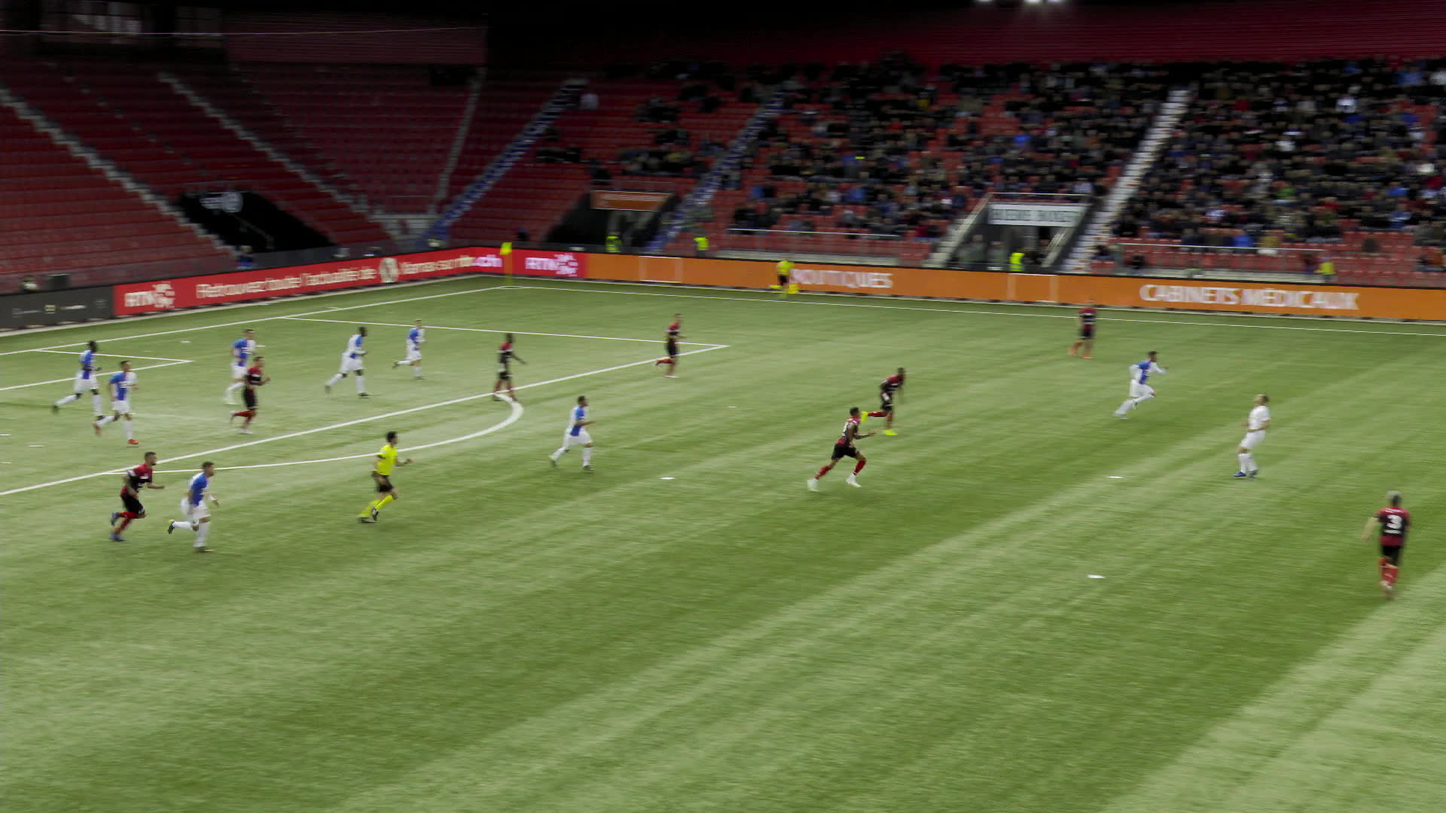player: (804, 406, 877, 493), (1360, 489, 1414, 600), (108, 451, 165, 541), (166, 461, 218, 551), (50, 340, 104, 419), (91, 361, 140, 445), (1112, 349, 1167, 420), (546, 394, 597, 470), (322, 325, 372, 398), (1231, 391, 1272, 477), (859, 367, 908, 437), (227, 355, 270, 434), (221, 327, 256, 404), (491, 331, 528, 402), (653, 312, 688, 378), (390, 318, 427, 380), (1066, 298, 1100, 361)
referee: (355, 429, 414, 524), (767, 254, 798, 300)
